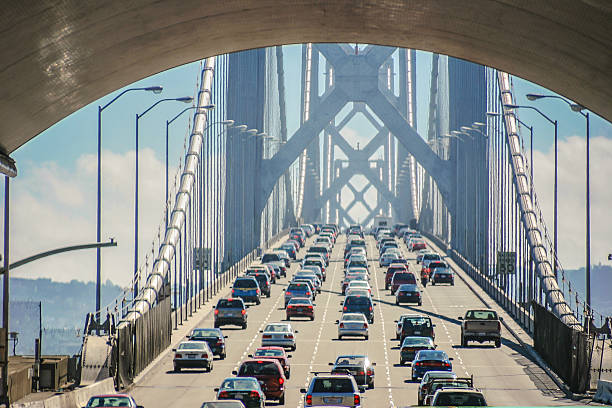car: (238, 359, 290, 401), (305, 375, 361, 408), (461, 310, 501, 345), (218, 377, 262, 408), (172, 340, 210, 371), (333, 356, 373, 384), (254, 345, 289, 376), (214, 298, 247, 328), (194, 329, 226, 359), (400, 314, 434, 341), (345, 296, 375, 323), (413, 351, 450, 372), (232, 277, 260, 304), (263, 325, 292, 351), (398, 338, 432, 359), (339, 314, 368, 338), (395, 284, 423, 306), (287, 299, 313, 322), (262, 253, 287, 274), (284, 284, 310, 304), (250, 273, 271, 295), (432, 267, 453, 286), (310, 246, 330, 263), (343, 275, 360, 294), (384, 267, 399, 284), (379, 253, 398, 266), (424, 252, 438, 267), (282, 243, 296, 258), (410, 238, 426, 251), (290, 228, 303, 244)
